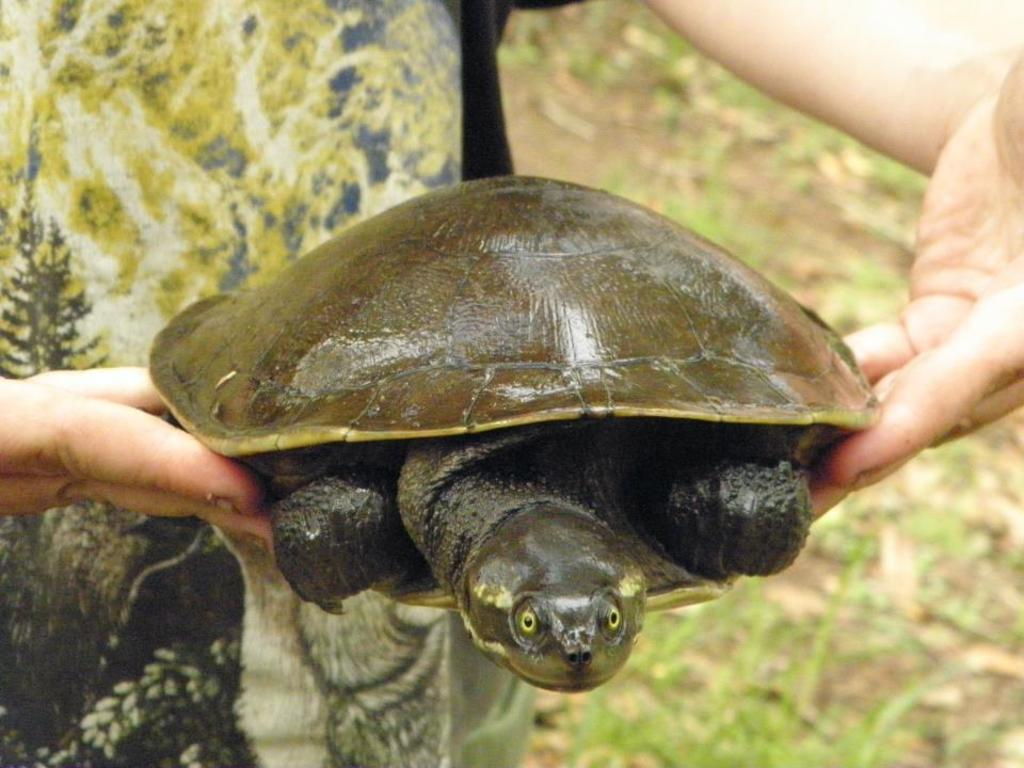Sea turtles: (148, 174, 880, 693)
